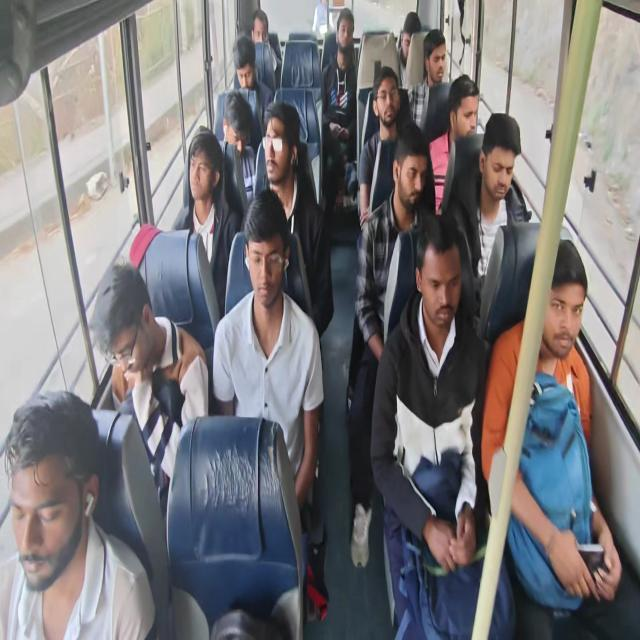person: (480, 238, 638, 638), (370, 212, 516, 639), (212, 188, 327, 618), (346, 121, 436, 568), (0, 389, 156, 639), (89, 259, 209, 516), (254, 100, 334, 338), (446, 112, 531, 327), (173, 128, 241, 318), (357, 65, 410, 230), (320, 8, 358, 218), (428, 74, 479, 214), (231, 34, 273, 134), (220, 90, 256, 206), (408, 28, 447, 131), (251, 8, 281, 91), (397, 11, 421, 90)
